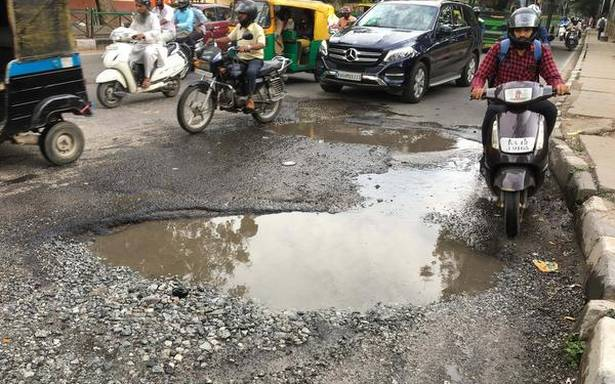pothole: (73, 181, 490, 314), (292, 99, 454, 157)
